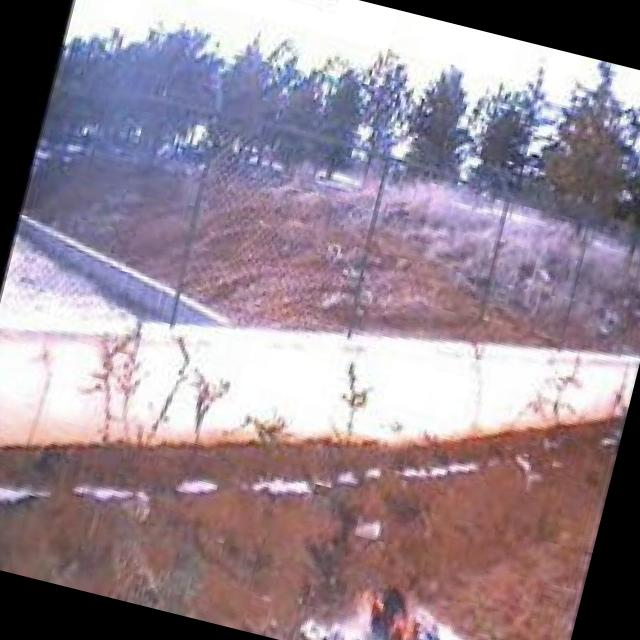Fire: (339, 580, 450, 640)
